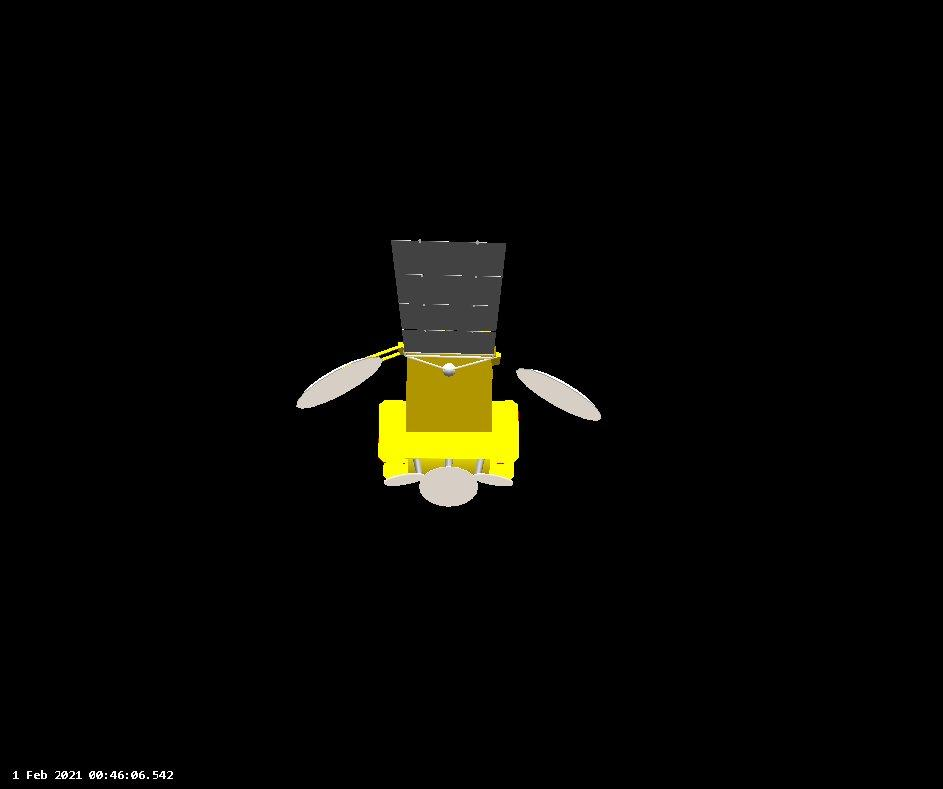antenna: (515, 358, 603, 428), (292, 350, 380, 414), (420, 466, 476, 506), (383, 472, 420, 492), (479, 471, 517, 490)
body: (367, 346, 531, 484)
solar: (389, 233, 513, 358)
